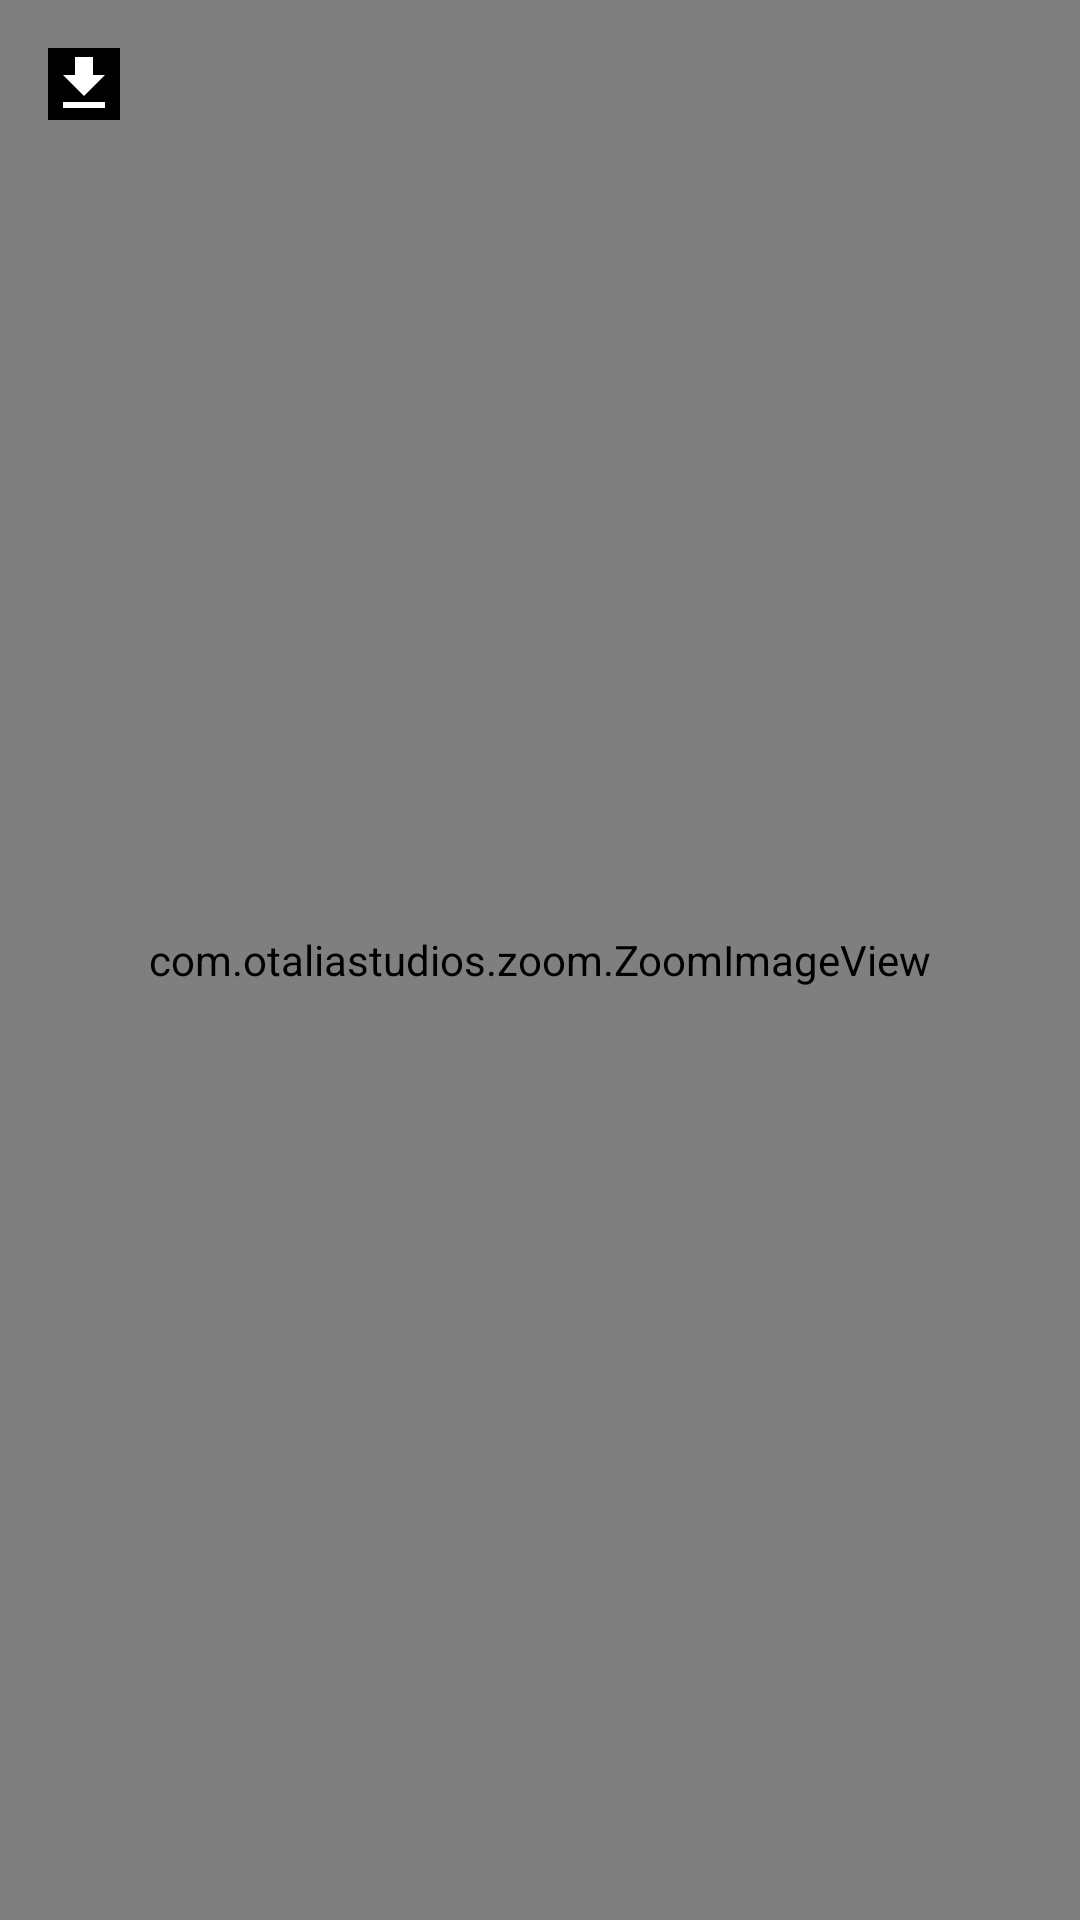

Named icons in this screenshot (1080px x 1920px) and their centers, [x,y]:
download: [84,84]
